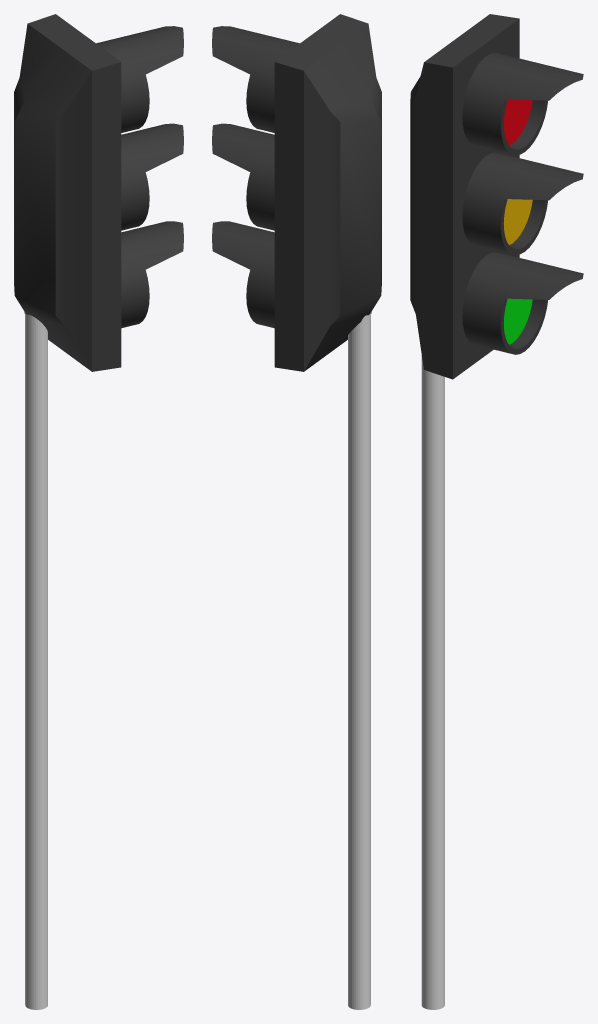
The model's file is traffic_lights.fbx.
3 views of the same model, side by side, from view 1: azimuth 30°, elevation 25°; view 2: azimuth 150°, elevation 25°; view 3: azimuth 330°, elevation 25° (orthographic). The views are drawn at different scales.
Parts seen in each view (by area): view 1: Cylinder.003, Cylinder.006; view 2: Cylinder.003, Cylinder.006; view 3: Cylinder.003, Cylinder.006, yellow, red, green.
Boxes of the visible parts, left/top/right/bottom form: Cylinder.003: left=14, top=14, right=183, bottom=371; Cylinder.006: left=25, top=313, right=47, bottom=1009; Cylinder.003: left=212, top=14, right=381, bottom=371; Cylinder.006: left=348, top=313, right=370, bottom=1009; Cylinder.003: left=410, top=14, right=583, bottom=379; Cylinder.006: left=421, top=355, right=444, bottom=1009; yellow: left=503, top=199, right=532, bottom=244; red: left=503, top=99, right=532, bottom=145; green: left=503, top=298, right=532, bottom=344.
Size of the model in its own units: 4.15 by 22.5 by 2.8.
